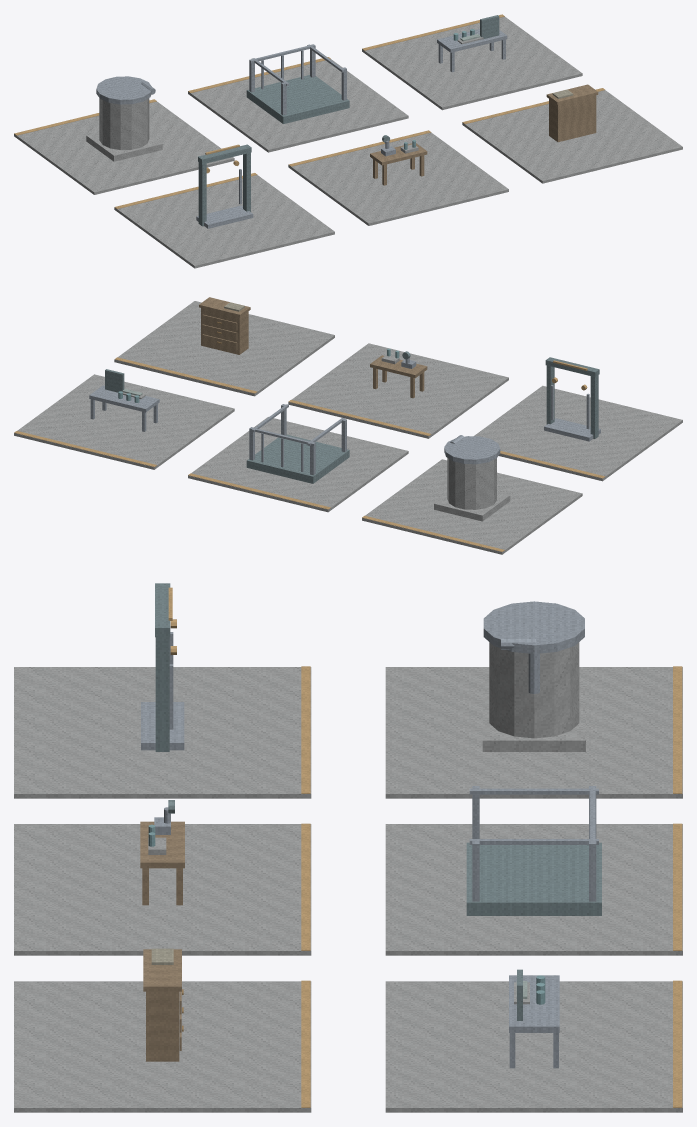
File: level_blockout_kit_wld_08_p03.glb
3 views of the same model, one above another, from view 1: azimuth 30°, elevation 25°; view 2: azimuth 150°, elevation 25°; view 3: azimuth 270°, elevation 25° (orthographic). The views are drawn at different scales.
Parts seen in each view (by area): view 1: level_blockout_kit_wld_08_p03; view 2: level_blockout_kit_wld_08_p03; view 3: level_blockout_kit_wld_08_p03.
Part boxes in pixels (x1,y1,x2,y2): level_blockout_kit_wld_08_p03: [14, 14, 682, 268]; level_blockout_kit_wld_08_p03: [14, 297, 682, 554]; level_blockout_kit_wld_08_p03: [14, 583, 682, 1112].
Size of the model in its own units: 19.65 by 2.75 by 12.6.
9 materials, 9 textured.
